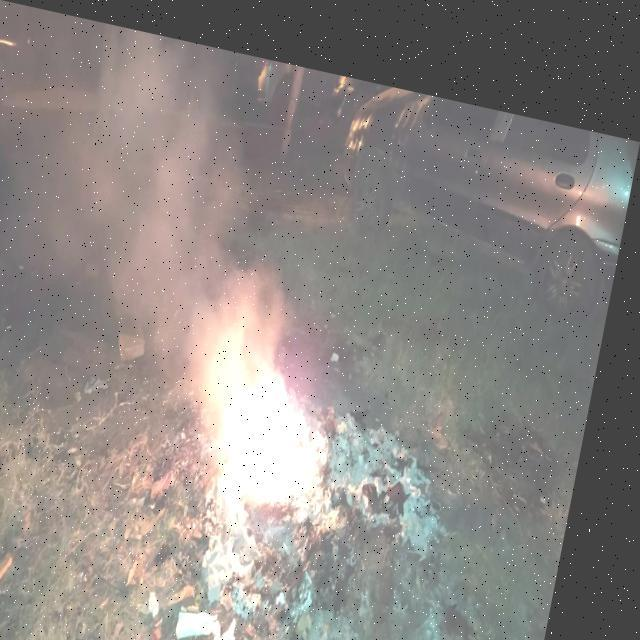Fire: (184, 282, 327, 493)
